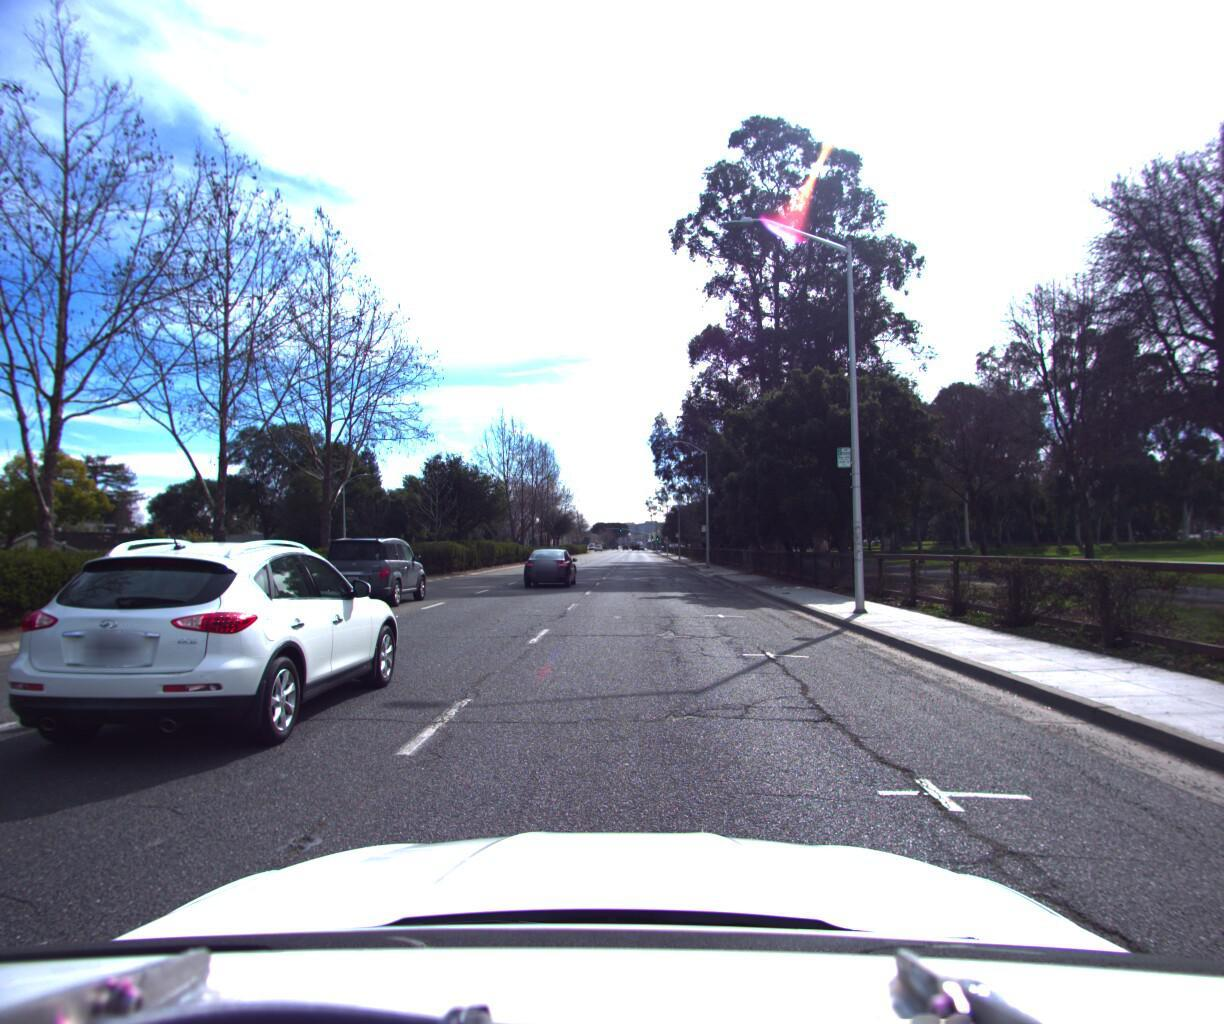car: (0, 526, 411, 771), (325, 534, 432, 606), (521, 541, 578, 585)
